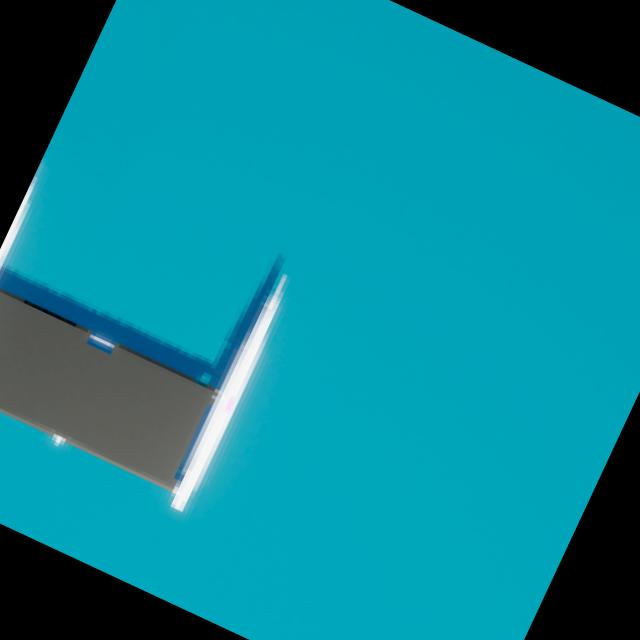boat: (0, 151, 312, 531)
drone: (0, 291, 206, 483)
